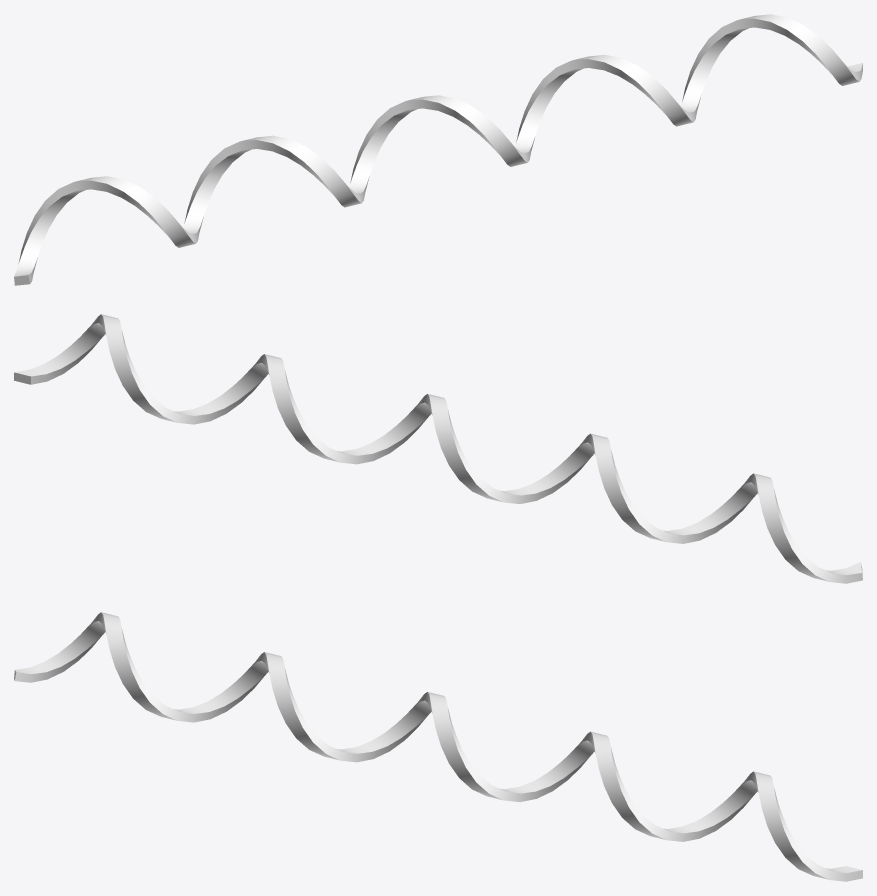
Rendered from Spring.glb.
The picture shows the model from 3 angles, top to bottom: view 1: azimuth 30°, elevation 25°; view 2: azimuth 150°, elevation 25°; view 3: azimuth 330°, elevation 25°; orthographic projection.
Visible parts, largest first — view 1: laserSpring; view 2: laserSpring; view 3: laserSpring.
Boxes of the visible parts, x1,y1,x2,y2 form: laserSpring: (14, 14, 862, 285); laserSpring: (14, 314, 862, 583); laserSpring: (14, 612, 862, 881).
Size of what is drawn, in the model's own units: 2.66 by 0.2356 by 0.2392.
Materials: 1 (1 with a texture image).
